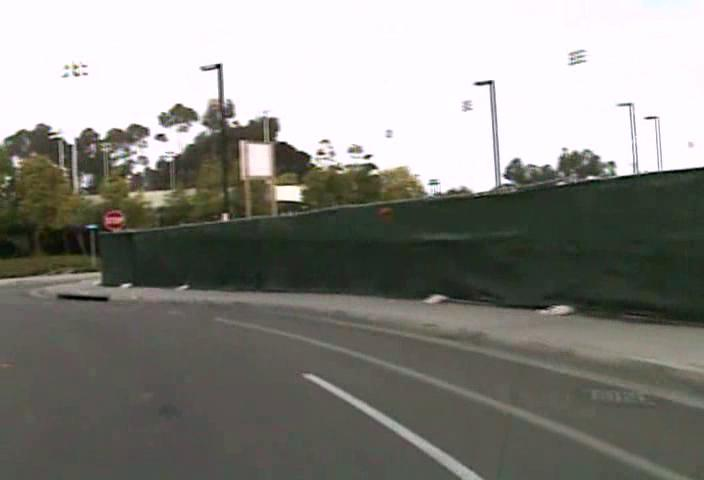stop: (103, 208, 125, 232)
